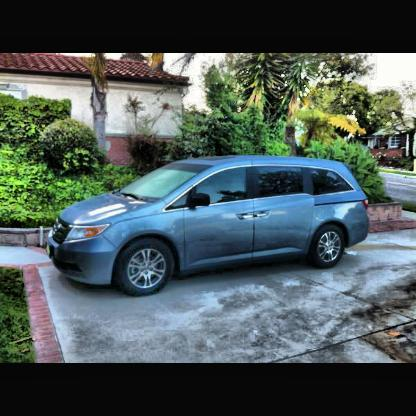Honda Odyssey Minivan 2012: (40, 149, 372, 305)
